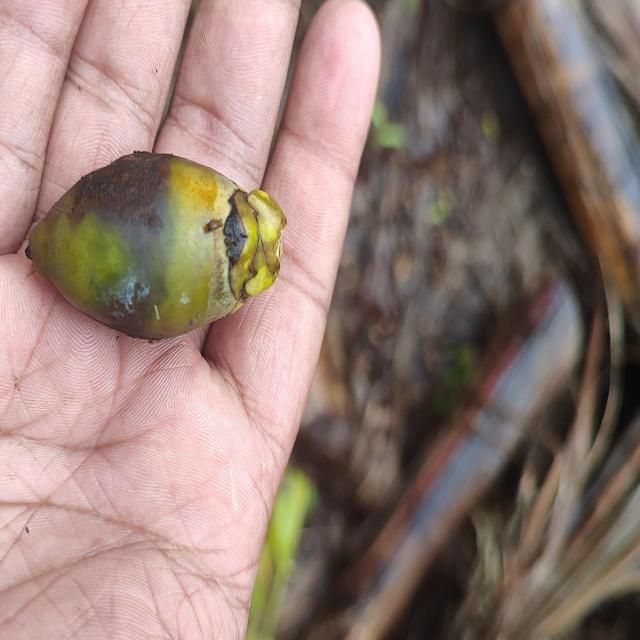damaged: (23, 151, 288, 344)
